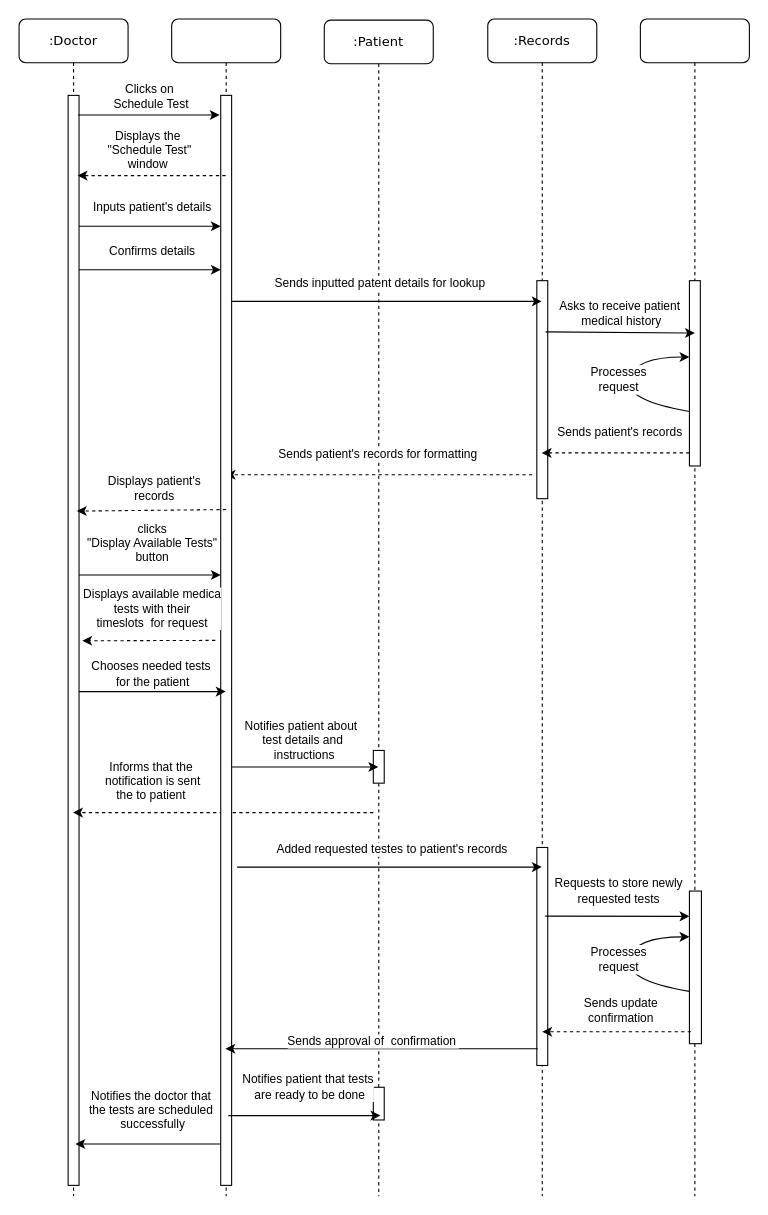
Image size: 768x1215. Some labels were removed from this diagram. Each missing label, with the box of its shape:
:GUI: (171, 18, 281, 1196)
:Patients Database: (639, 18, 749, 1196)
